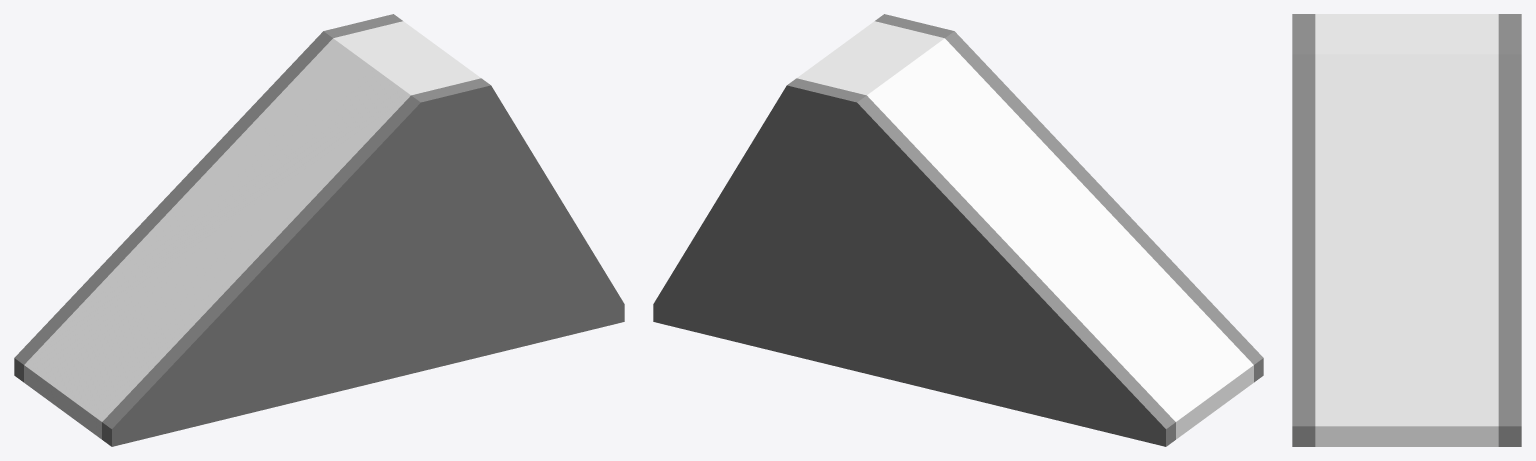
File: updownchunk.fbx
3 renders of one model, left to right at view 1: azimuth 30°, elevation 25°; view 2: azimuth 150°, elevation 25°; view 3: azimuth 270°, elevation 25°, orthographic. The views are drawn at different scales.
Parts seen in each view (by area): view 1: updownchunk; view 2: updownchunk; view 3: updownchunk.
Boxes of the visible parts, box(x1,y1,x2,y2) form: updownchunk: box(14, 14, 624, 446); updownchunk: box(653, 14, 1263, 446); updownchunk: box(1292, 14, 1521, 446).
Size of the model in its own units: 152 by 50 by 76.08.
